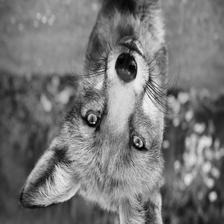fox: (14, 0, 198, 224)
